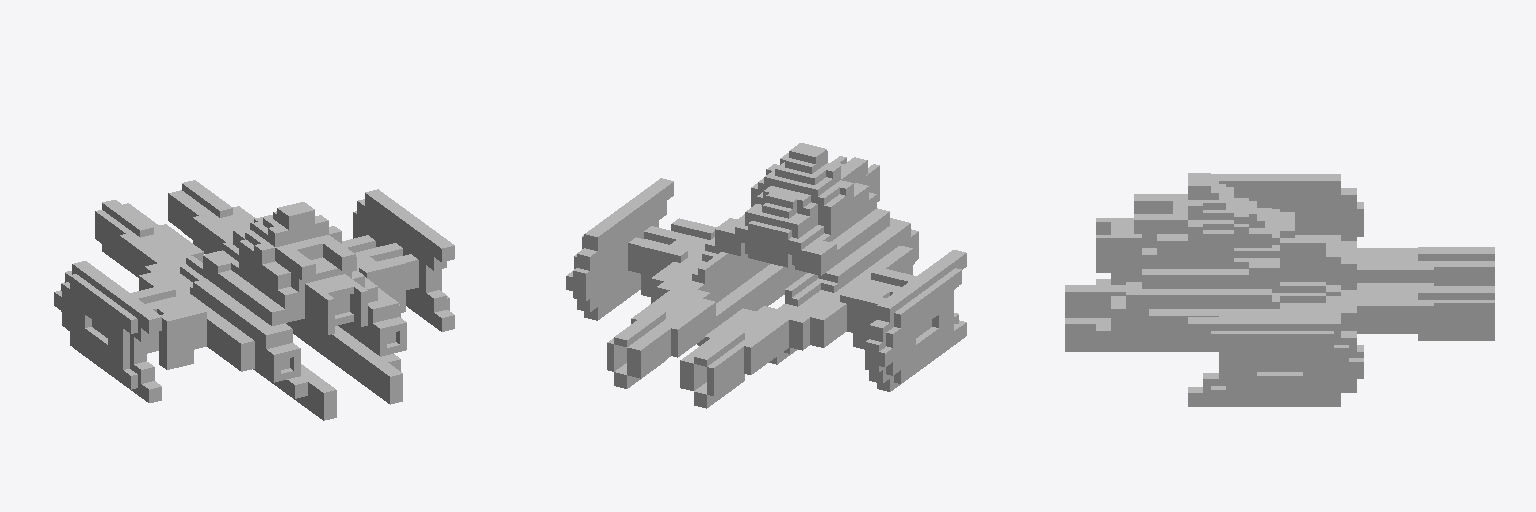
The model's file is Ship 02 Highpoly.obj.
The picture shows the model from 3 angles: view 1: azimuth 30°, elevation 25°; view 2: azimuth 150°, elevation 25°; view 3: azimuth 270°, elevation 25°; orthographic projection.
Visible parts, largest first — view 1: Ship 02; view 2: Ship 02; view 3: Ship 02.
Part boxes in pixels (x1,y1,x2,y2): Ship 02: (54,180,454,420); Ship 02: (566,143,966,408); Ship 02: (1065,173,1494,406).
Size of the model in its own units: 48 by 22 by 56.